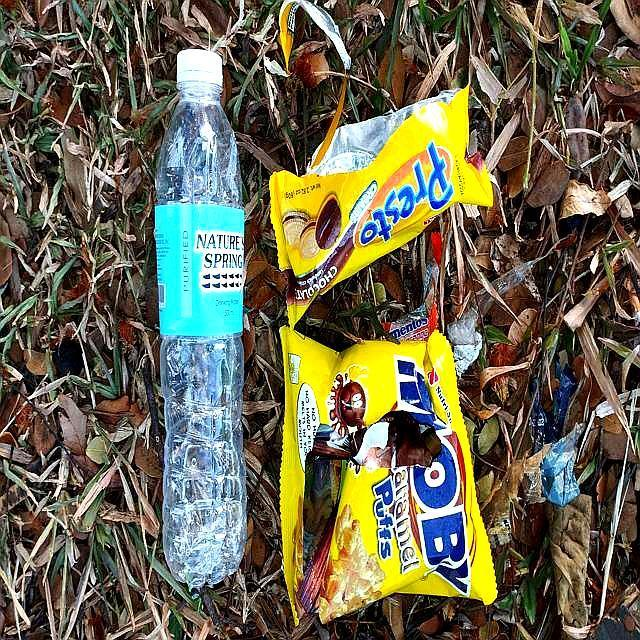Non-biodegradable: (277, 325, 501, 631), (265, 80, 501, 326), (157, 43, 257, 589)
